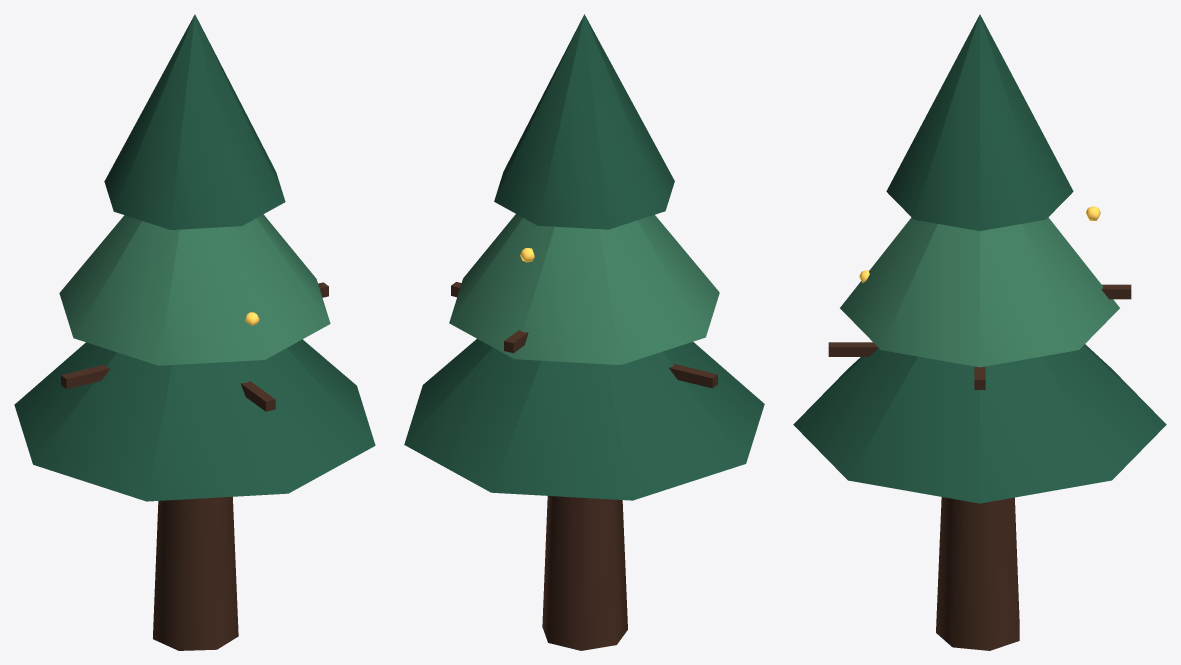
File: ledger-pine-lod1.glb
The picture shows the model from 3 angles, left to right: view 1: azimuth 30°, elevation 25°; view 2: azimuth 150°, elevation 25°; view 3: azimuth 270°, elevation 25°; orthographic projection.
Visible parts, largest first — view 1: MESH_ledger_pine_foliage, MESH_ledger_pine_foliageLight, MESH_ledger_pine_bark; view 2: MESH_ledger_pine_foliage, MESH_ledger_pine_foliageLight, MESH_ledger_pine_bark; view 3: MESH_ledger_pine_foliage, MESH_ledger_pine_foliageLight, MESH_ledger_pine_bark.
Part boxes in pixels (x1,y1,x2,y2): MESH_ledger_pine_foliage: [14, 14, 375, 501]; MESH_ledger_pine_foliageLight: [59, 214, 330, 365]; MESH_ledger_pine_bark: [61, 282, 328, 650]; MESH_ledger_pine_foliage: [404, 14, 764, 500]; MESH_ledger_pine_foliageLight: [449, 214, 719, 364]; MESH_ledger_pine_bark: [451, 282, 717, 650]; MESH_ledger_pine_foliage: [793, 14, 1166, 503]; MESH_ledger_pine_foliageLight: [840, 217, 1119, 367]; MESH_ledger_pine_bark: [828, 284, 1131, 650].
Size of the model in its own units: 6.1 by 11.15 by 6.1.
